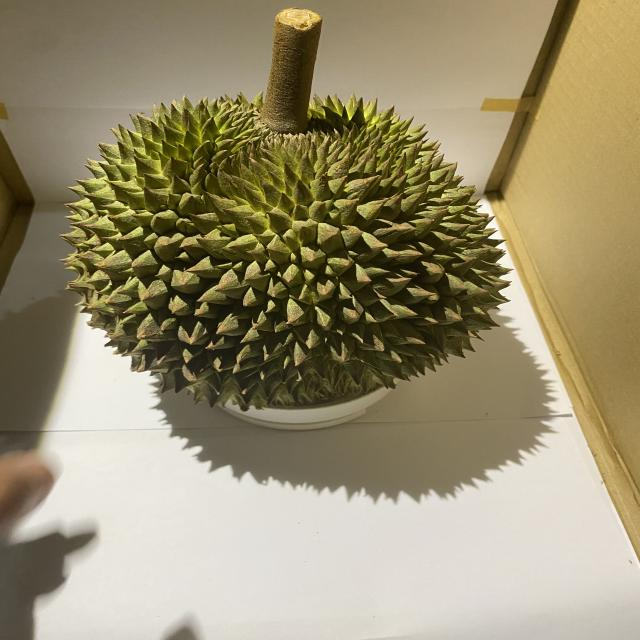immature: (59, 89, 517, 409)
